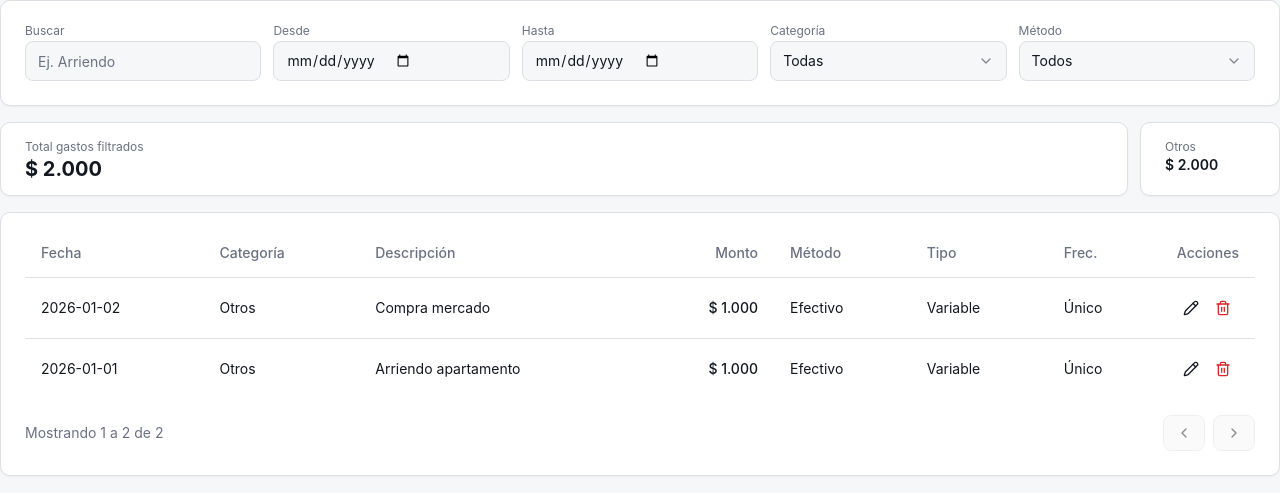
Test: GastosTable › filters gastos by search text (busqueda)
Type "mercado" into the field with placeholder "Ej. Arriendo".
click(143, 61); type("mercado")  # box [25,41,261,81]
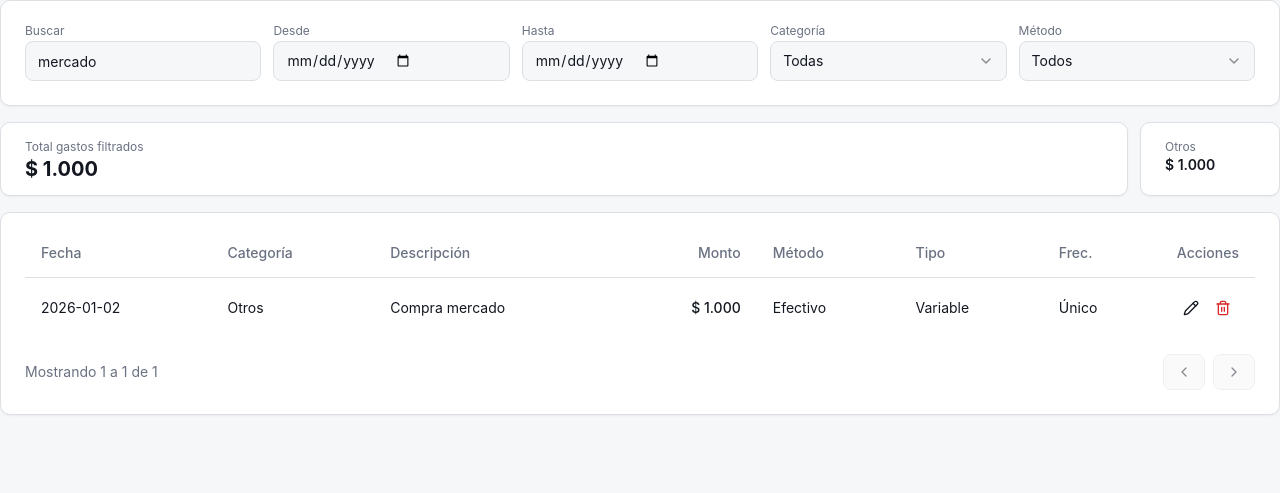
expect the text "Compra mercado" is shown: met, box [374,277,620,338]
expect the text "Arriendo apartamento" is gone: met
